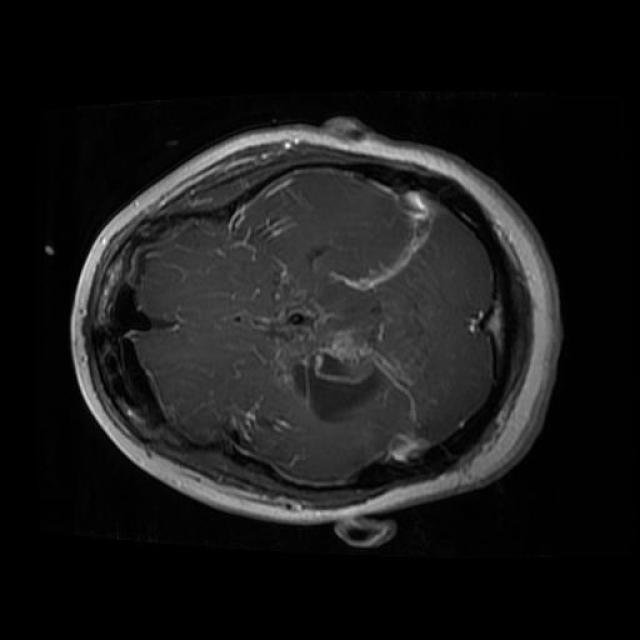Glioma: (91, 245, 165, 443), (294, 331, 391, 422)
